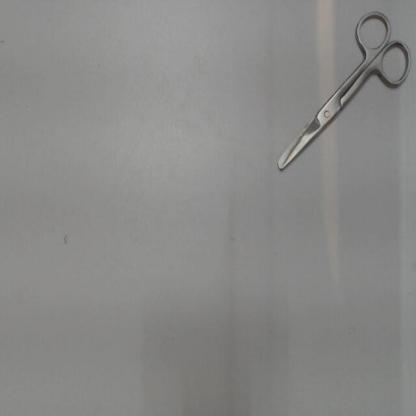Dressing Scissors: (265, 5, 415, 188)
